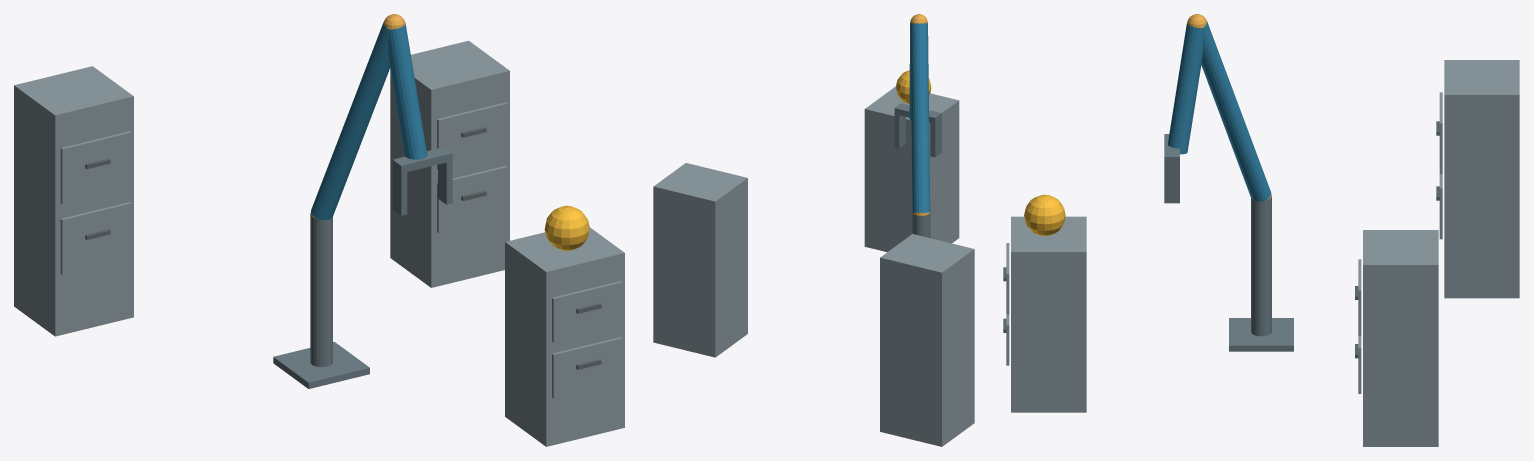
The picture shows the model from 3 angles, left to right: view 1: azimuth 30°, elevation 25°; view 2: azimuth 150°, elevation 25°; view 3: azimuth 270°, elevation 25°; orthographic projection. The views are drawn at different scales.
Parts seen in each view (by area): view 1: cabinet_3 body, cabinet_1 body, cabinet_2 body, moving link 1, cabinet_3 drawer front, cabinet_3 drawer front.001, fixed post, cabinet_2 drawer front.001, cabinet_2 drawer front, cabinet_1 drawer front.001, cabinet_1 drawer front, moving link 2 (+5 smaller); view 2: cabinet_3 body, cabinet_2 body, cabinet_1 body, moving link 1, ball ball_1, fixed post, gripper finger -1, gripper finger 1, gripper bridge; view 3: cabinet_3 body, cabinet_2 body, cabinet_1 body, moving link 1, fixed post, moving link 2, pedestal, ball ball_1, gripper finger 1.
Boxes of the visible parts, box(x1,y1,x2,y2) form: cabinet_3 body: box(14, 66, 133, 336); cabinet_1 body: box(505, 227, 624, 446); cabinet_2 body: box(390, 40, 509, 287); moving link 1: box(311, 21, 389, 220); cabinet_3 drawer front: box(60, 202, 131, 275); cabinet_3 drawer front.001: box(60, 131, 131, 204); fixed post: box(310, 215, 332, 366); cabinet_2 drawer front.001: box(437, 102, 507, 168); cabinet_2 drawer front: box(437, 165, 507, 233); cabinet_1 drawer front.001: box(552, 281, 622, 342); cabinet_1 drawer front: box(552, 337, 622, 398); moving link 2: box(388, 23, 427, 159); cabinet_3 body: box(880, 234, 974, 446); cabinet_2 body: box(653, 163, 747, 357); cabinet_1 body: box(864, 86, 959, 252); moving link 1: box(910, 23, 930, 212); ball ball_1: box(896, 70, 931, 104); fixed post: box(912, 212, 930, 237); gripper finger -1: box(930, 119, 941, 157); gripper finger 1: box(894, 114, 905, 148); gripper bridge: box(894, 103, 941, 123); cabinet_3 body: box(1444, 60, 1519, 298); cabinet_2 body: box(1363, 230, 1438, 446); cabinet_1 body: box(1011, 216, 1086, 412); moving link 1: box(1201, 21, 1271, 201); fixed post: box(1251, 196, 1271, 336); moving link 2: box(1168, 22, 1203, 154); pedestal: box(1229, 318, 1293, 351); ball ball_1: box(1024, 194, 1065, 236); gripper finger 1: box(1164, 164, 1179, 203).
Size of the model in its own units: 1.67 by 1.44 by 1.98.
